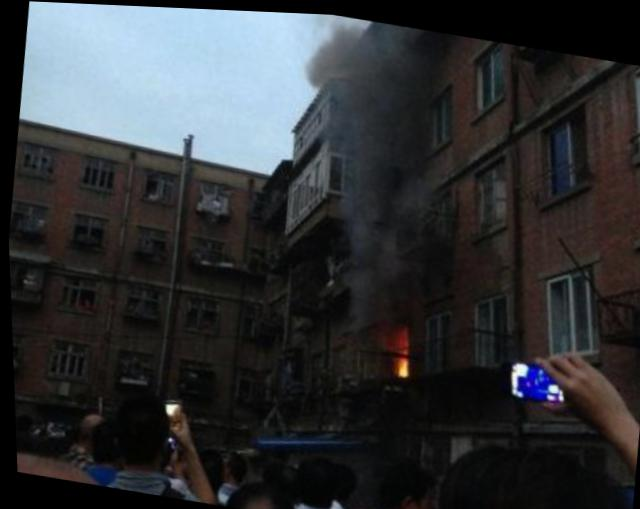fire: (393, 320, 412, 372)
